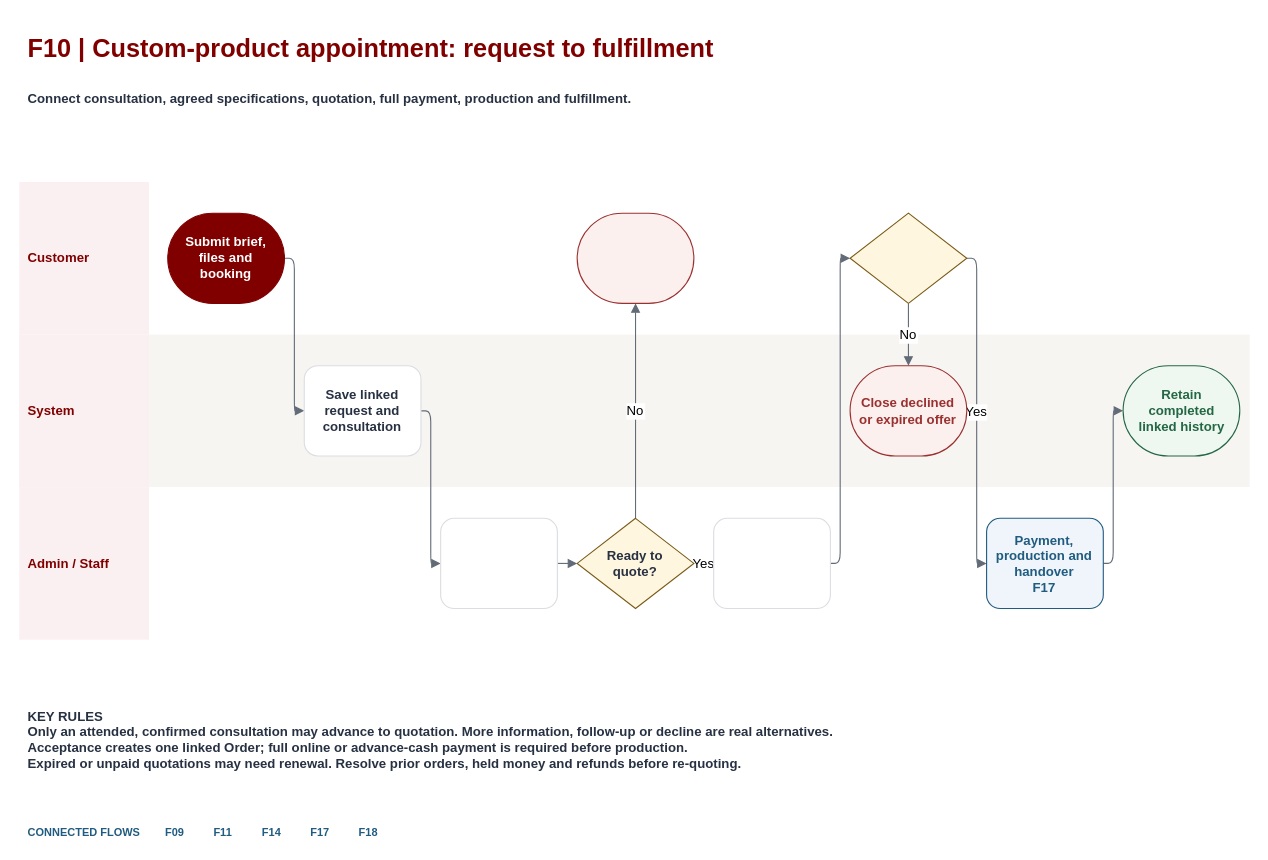
This 1268x860 diagram has some shape labels left out. The box of each missing label's shape, as (x1, y1, x2, y2) in pixels:
Accept current quote?: (849, 212, 967, 303)
Attend and confirm discussion: (440, 517, 557, 609)
Clarify brief, follow up or close: (576, 212, 694, 303)
Send quotation and agreed terms: (713, 517, 830, 609)
